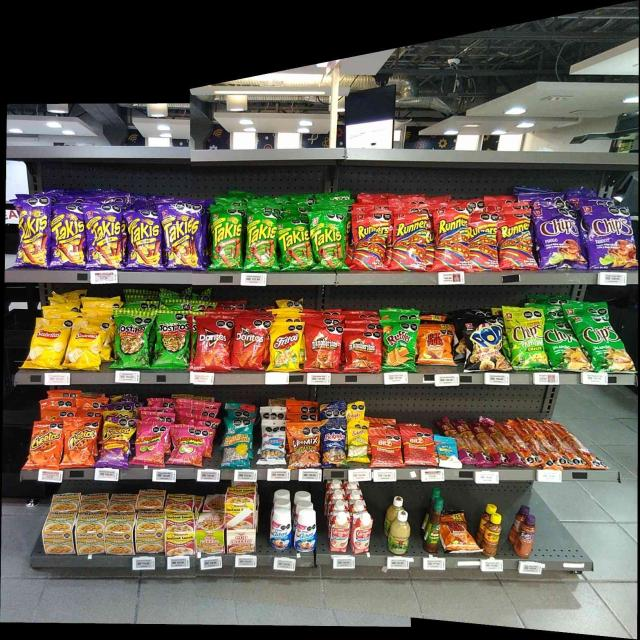bitzAlmendras: (435, 436, 455, 468)
bitzEnchilado90: (370, 429, 402, 467), (404, 425, 433, 466)
bitzEnchilado95: (508, 422, 590, 469)
bitzHabanero: (458, 423, 501, 466)
bokadosCacahuates: (322, 420, 346, 467)
botaneraChilito: (484, 513, 500, 556)
cheetosFlaminHot: (98, 418, 130, 468)
cheetosOriginal: (62, 417, 96, 467), (31, 422, 60, 469)
chipsFuego: (533, 210, 586, 272), (588, 207, 634, 272)
chipsJalapeno: (578, 310, 627, 371), (547, 320, 576, 370)
chipsPapatinas: (506, 306, 545, 370)
churrumais: (170, 424, 205, 466), (136, 421, 166, 466)
delPrimoSalsa: (388, 509, 409, 554)
doritosNacho: (195, 316, 230, 371), (234, 321, 266, 370)
fritosLimon: (269, 322, 300, 372)
hotNutsOriginal: (418, 323, 454, 365), (442, 515, 477, 554)
leoCacahuates: (261, 422, 284, 466)
leoMix: (286, 422, 320, 467)
maruchanPollo: (42, 508, 75, 554), (136, 508, 163, 553), (106, 512, 134, 555), (77, 511, 104, 554)
maruchanRes: (166, 513, 194, 555), (227, 487, 254, 528)
nestleCarnation: (351, 513, 370, 553), (330, 511, 348, 552)
nestleLechera: (294, 510, 316, 552), (270, 510, 292, 550)
nissinCamaron: (197, 512, 225, 554)
nissinRes: (228, 531, 255, 553)
popKarameladas: (458, 321, 502, 373)
rancheritos: (305, 323, 341, 373), (344, 330, 379, 372)
rufflesQueso: (384, 320, 416, 370)
runners: (350, 210, 390, 272), (432, 210, 472, 272), (393, 212, 429, 271), (500, 211, 530, 271), (473, 215, 498, 269)
sabritasOriginal: (67, 320, 103, 372), (31, 319, 64, 370)
salsaBufalo: (422, 500, 440, 553)
semillasCalabaza: (348, 420, 368, 463)
semillasGirasol: (224, 419, 251, 468)
tajinDulce: (514, 515, 536, 557)
takisFuego: (166, 203, 204, 269), (50, 204, 86, 268), (124, 210, 162, 270), (88, 205, 123, 268), (18, 200, 49, 266)
takisOriginal: (314, 213, 348, 269), (212, 208, 243, 269), (246, 213, 276, 270), (279, 226, 311, 268)
tostitos: (113, 308, 149, 370), (151, 311, 188, 368)
